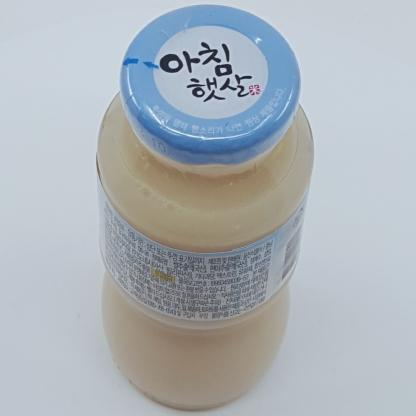------180ML: (96, 5, 314, 410)
